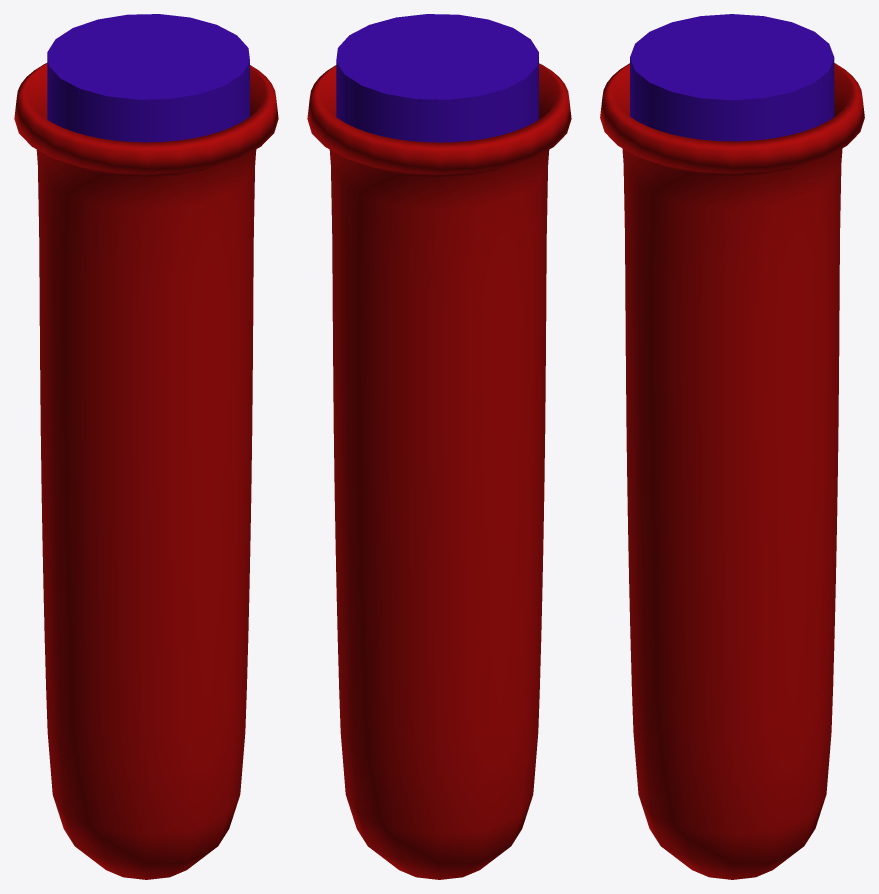
File: TestTube4.fbx
3 views of the same model, side by side, from view 1: azimuth 30°, elevation 25°; view 2: azimuth 150°, elevation 25°; view 3: azimuth 270°, elevation 25° (orthographic).
Parts seen in each view (by area): view 1: TestTube4; view 2: TestTube4; view 3: TestTube4.
Part boxes in pixels (x1,y1,x2,y2): TestTube4: (14, 14, 278, 879); TestTube4: (307, 14, 571, 879); TestTube4: (600, 14, 864, 879).
Bounding box in the file's own units: 6.67 × 22.42 × 6.67.
